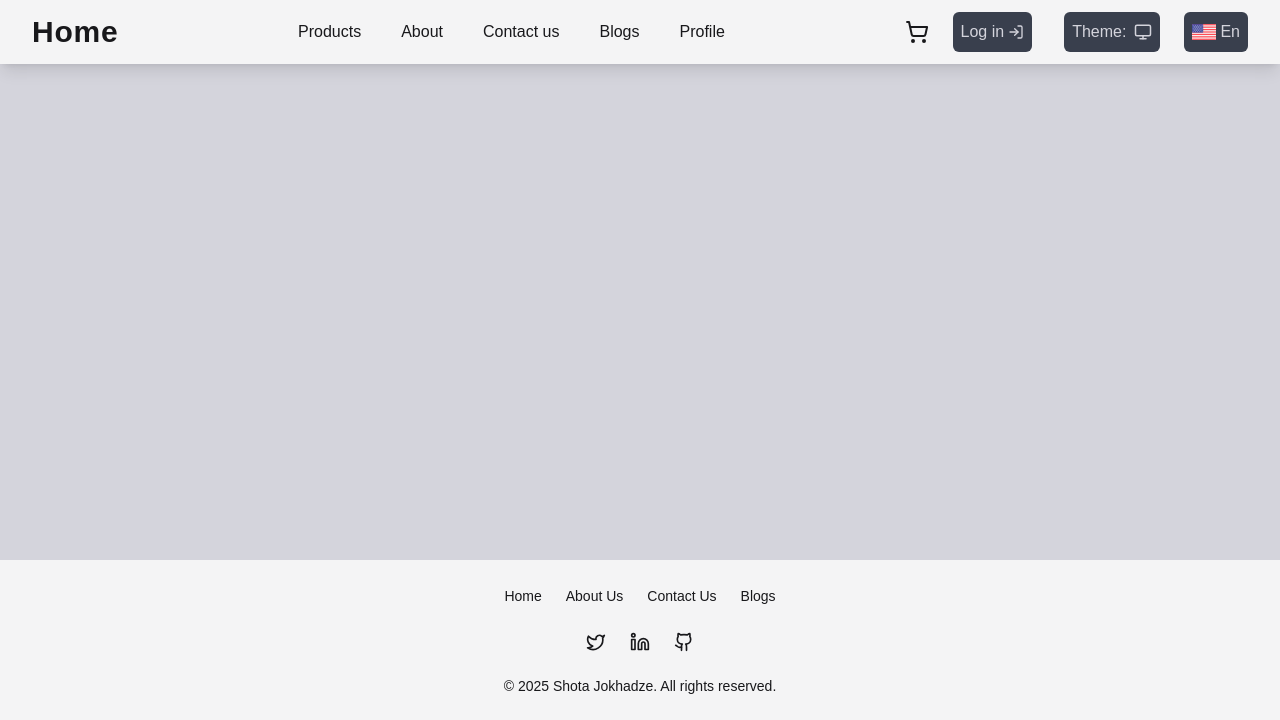
Test case: Authentication › Fails to log in with incorrect credentials
The image size is (1280, 720).
Click the link with test id "login-in" at [993, 32], box [953,12,1033,52]
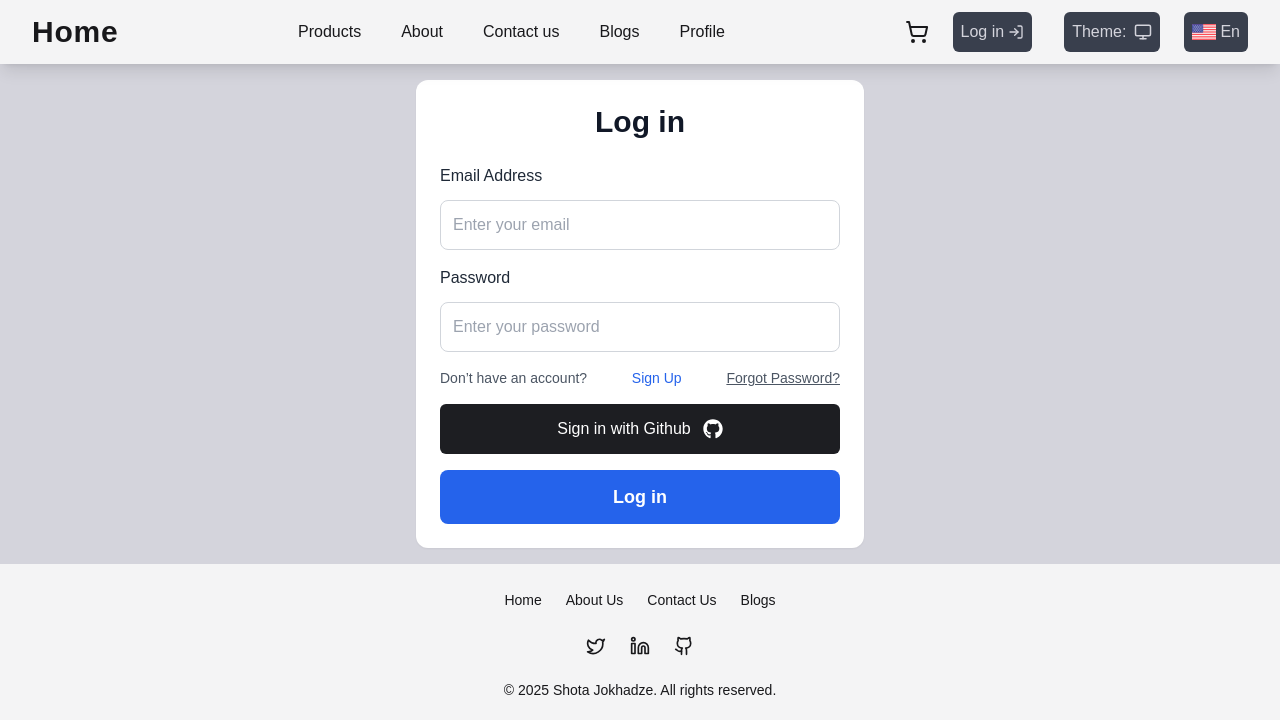
Type "wrong@gmail.com" into the field with test id "login-email-input" at [640, 225], box [440,200,840,250]
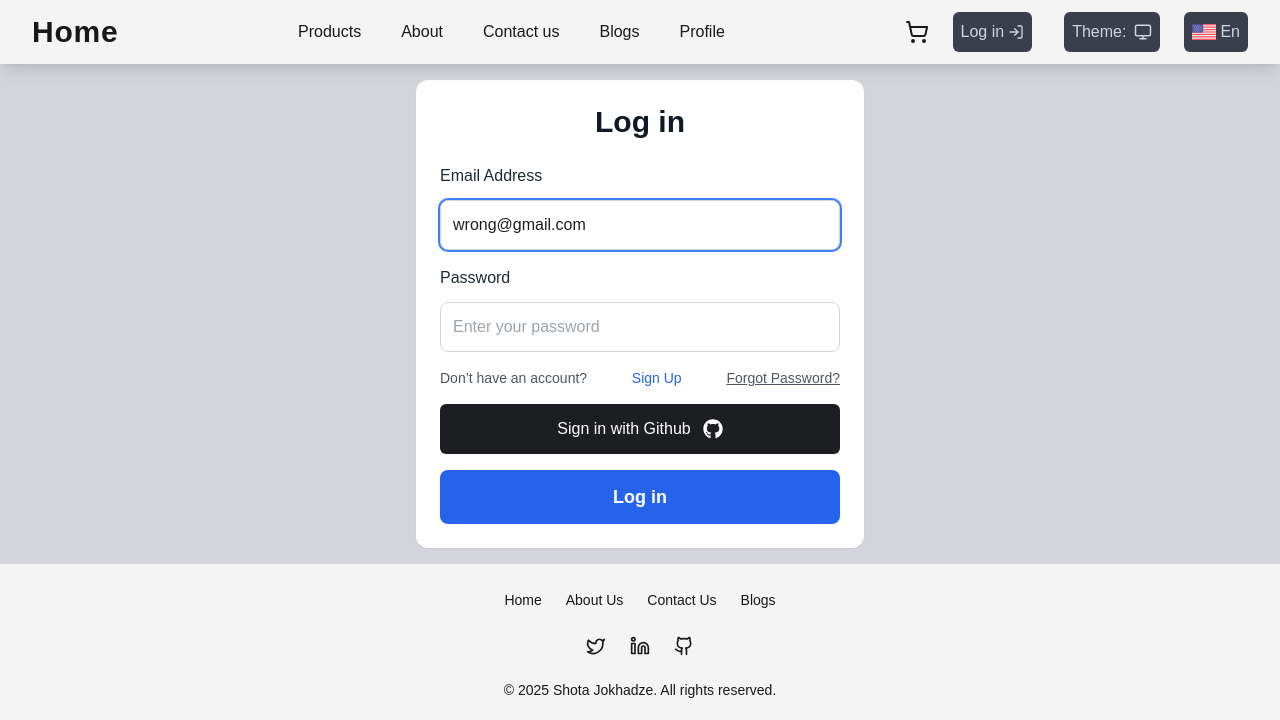
Type "WrongPassword123" into the password field with test id "login-password-input" at [640, 327], box [440,302,840,352]
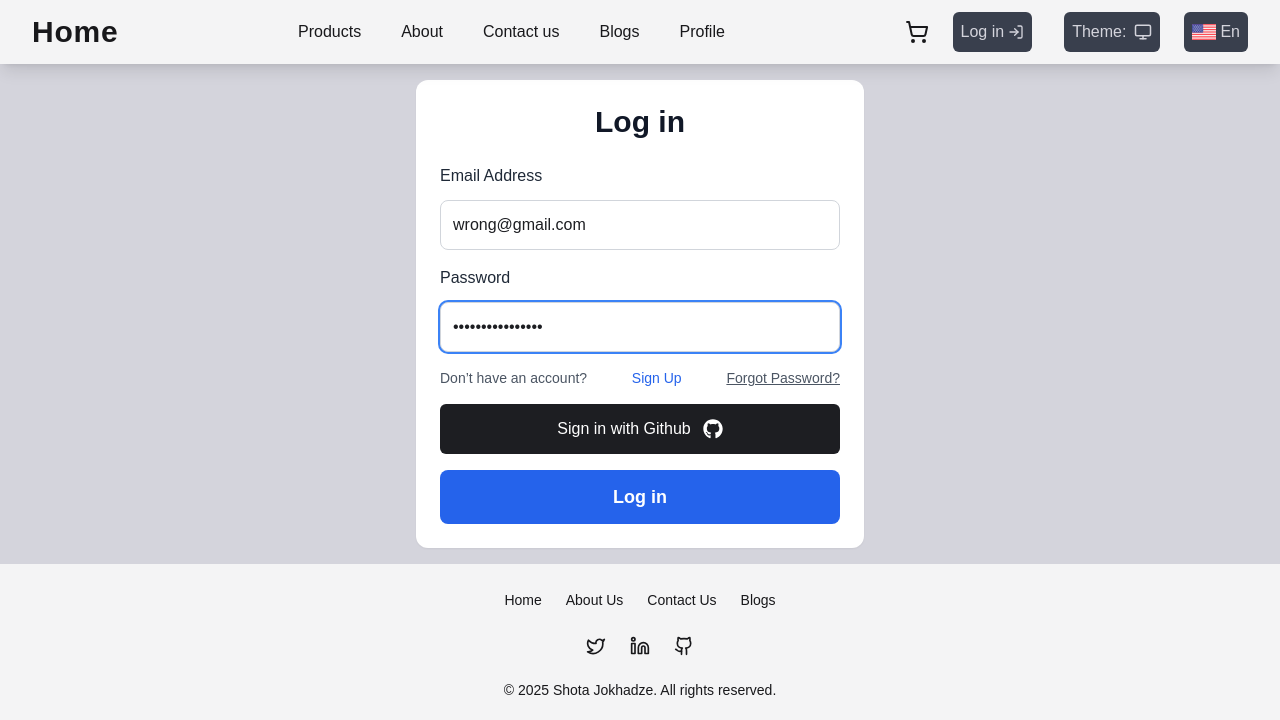
Click the button with test id "login-submit-button" at [640, 497], box [440,470,840,524]
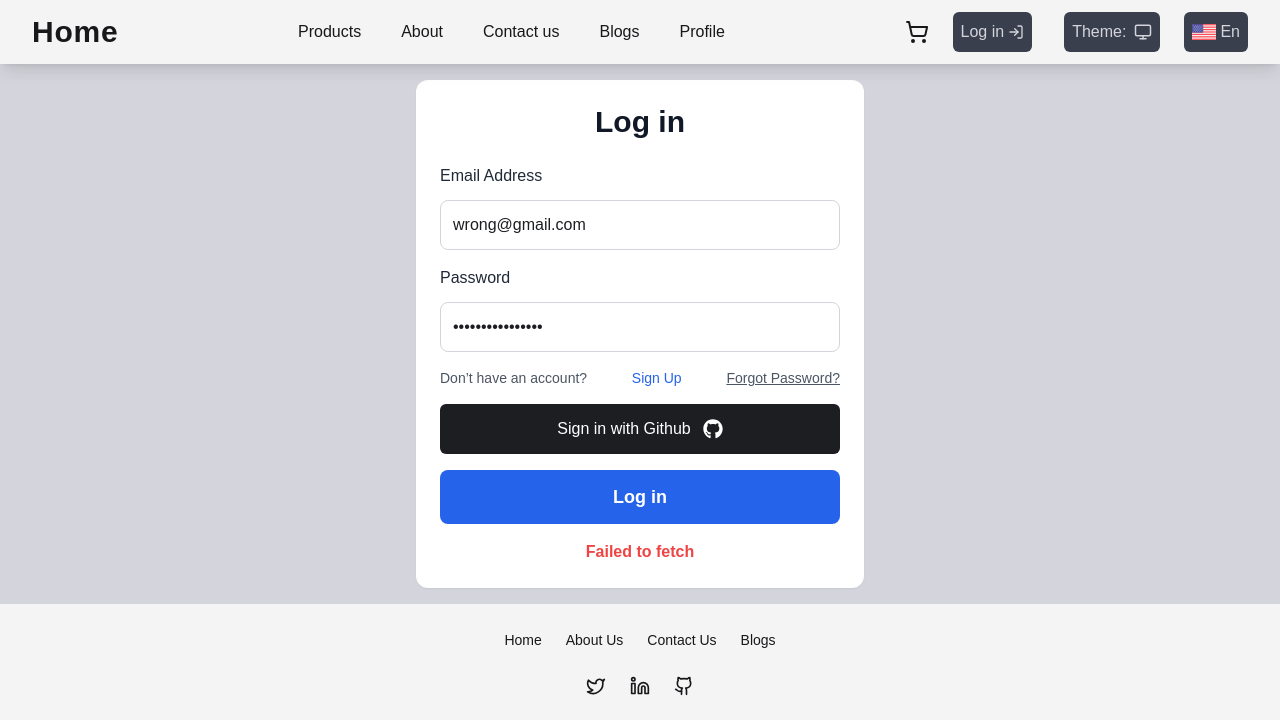
Check: the element with test id "login-error-message" is not empty
Check: the element with test id "login-error-message" is shown, box [586,543,695,560]
